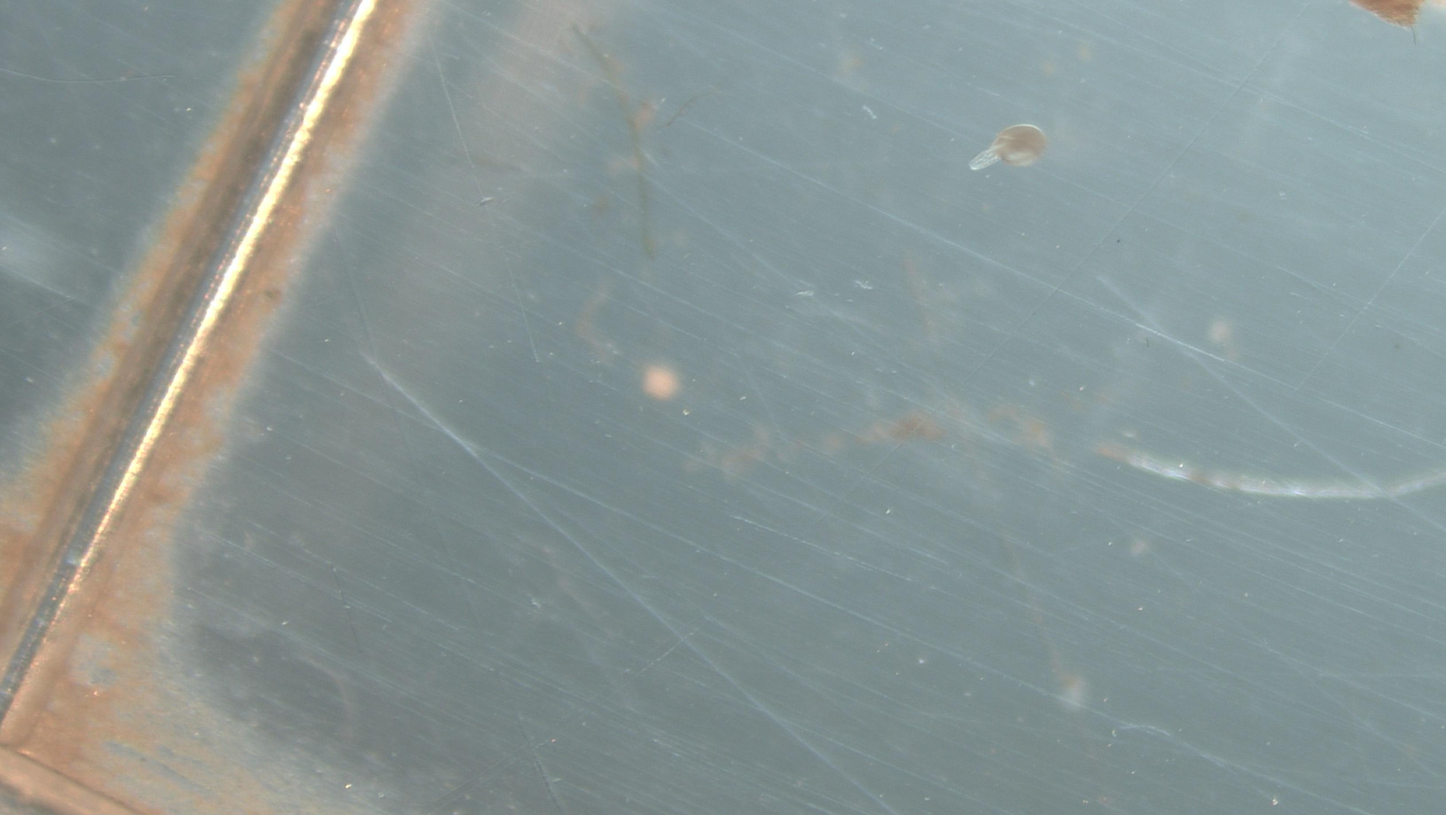live: (969, 124, 1046, 171)
